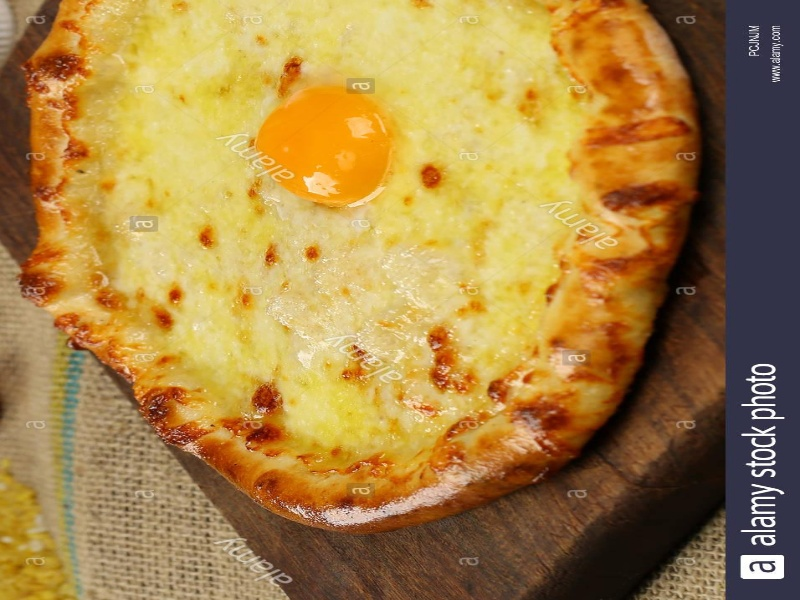oeuf: (235, 75, 397, 219)
